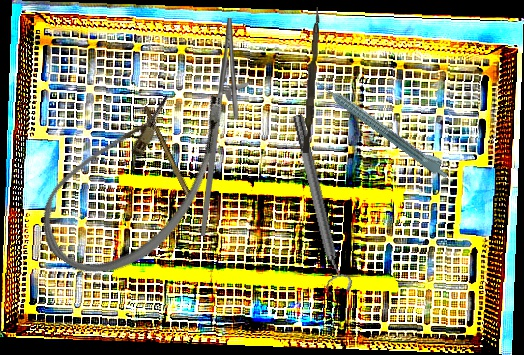Cannula: (22, 49, 250, 303)
Fixation Ring: (284, 111, 355, 297)
Handpiece: (312, 71, 455, 183)
Needle Holder: (199, 18, 250, 236)
Pusher: (302, 6, 321, 154)
Scalpel Handle: (141, 105, 196, 202)
